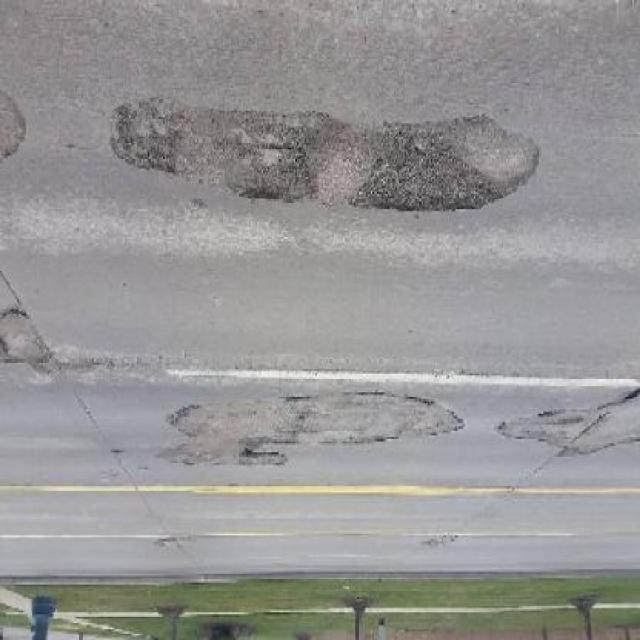pothole: (348, 136, 499, 213), (230, 120, 319, 211), (112, 102, 183, 182), (238, 441, 260, 465)
